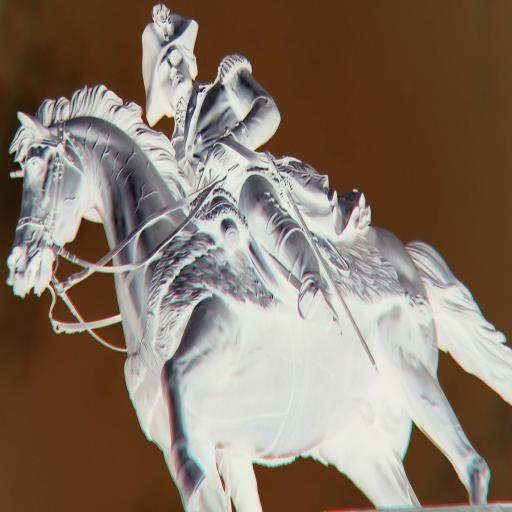horse: (4, 82, 512, 510)
